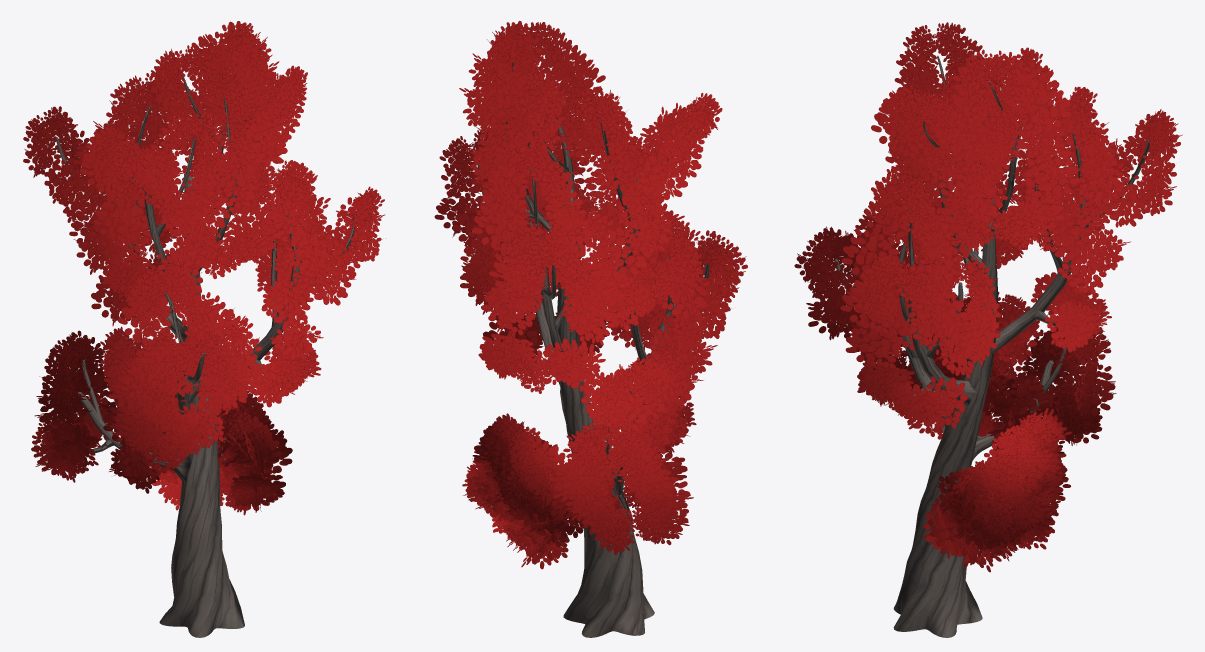
File: twisted_tree_4.gltf
The picture shows the model from 3 angles, left to right: view 1: azimuth 30°, elevation 25°; view 2: azimuth 150°, elevation 25°; view 3: azimuth 270°, elevation 25°; orthographic projection. The views are drawn at different scales.
Visible parts, largest first — view 1: twisted_tree_4; view 2: twisted_tree_4; view 3: twisted_tree_4.
Boxes of the visible parts, left/top/right/bottom form: twisted_tree_4: left=23, top=21, right=384, bottom=637; twisted_tree_4: left=434, top=21, right=747, bottom=637; twisted_tree_4: left=794, top=22, right=1182, bottom=637.
Bounding box in the file's own units: 10.38 × 18.74 × 11.29.
2 materials, 2 textured.
